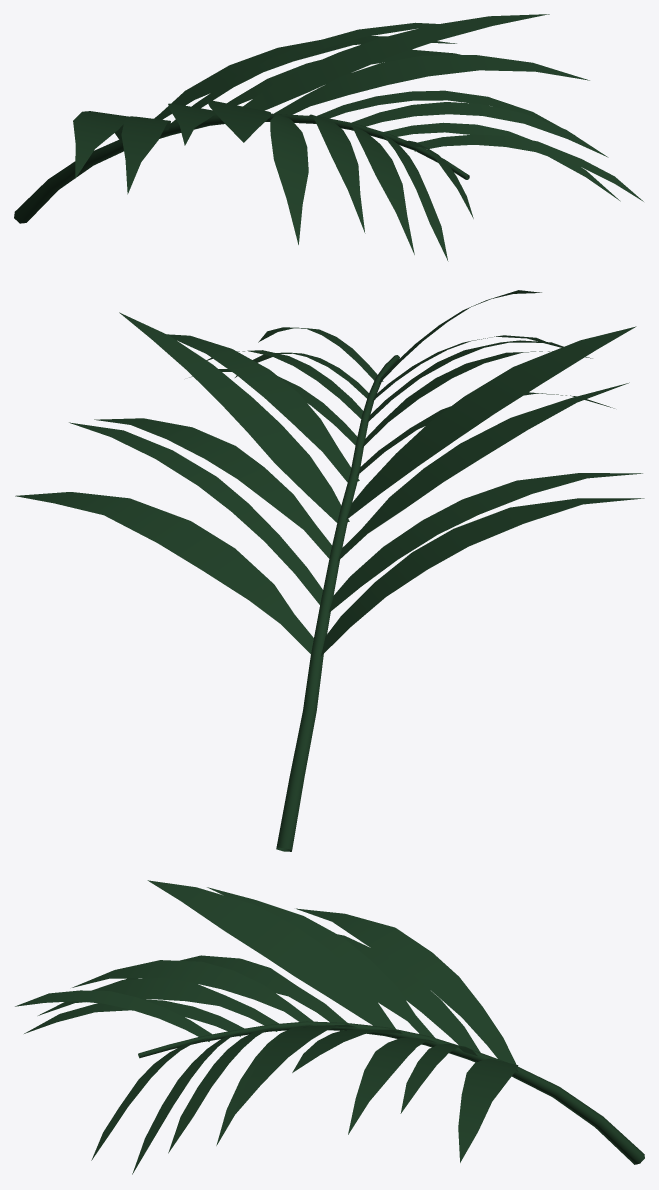
File: kusaparts.fbx
3 views of the same model, one above another, from view 1: azimuth 30°, elevation 25°; view 2: azimuth 150°, elevation 25°; view 3: azimuth 270°, elevation 25° (orthographic). The views are drawn at different scales.
Parts seen in each view (by area): view 1: Palm_02; view 2: Palm_02; view 3: Palm_02.
Boxes of the visible parts, x1=… form: Palm_02: x1=14, y1=14, x2=643, y2=261; Palm_02: x1=15, y1=290, x2=644, y2=851; Palm_02: x1=15, y1=880, x2=644, y2=1174.
Bounding box in the file's own units: 2.39 × 1.36 × 2.97.
